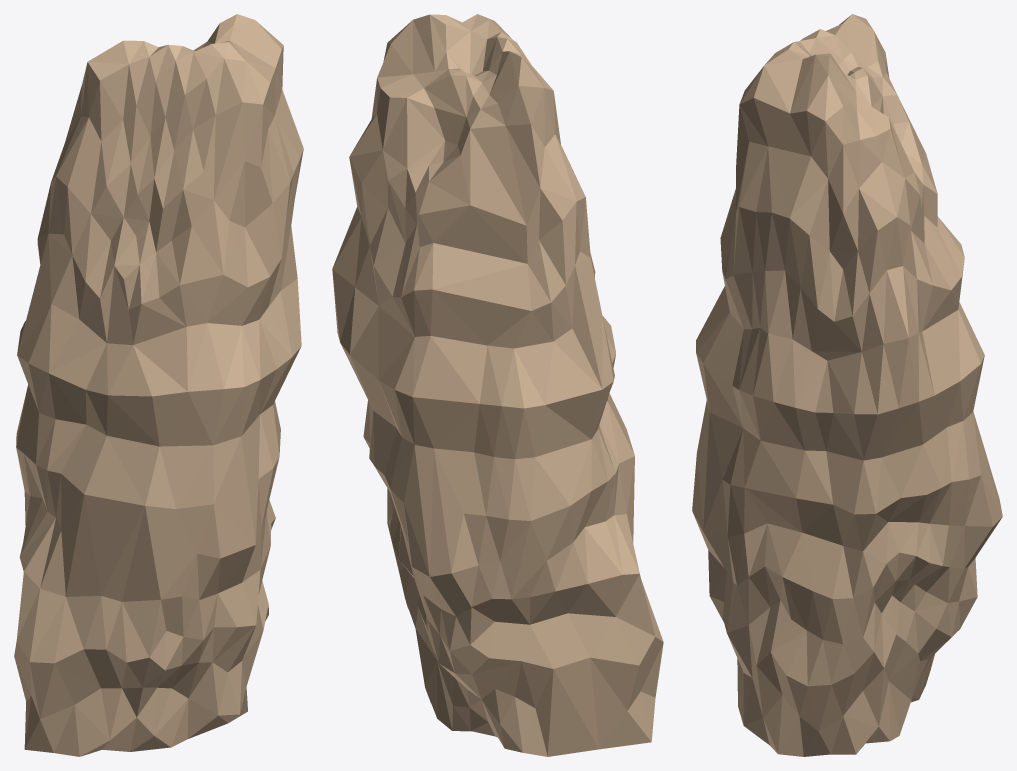
The model's file is SM_DST_Rock_Pillar_A.fbx.
3 views of the same model, side by side, from view 1: azimuth 30°, elevation 25°; view 2: azimuth 150°, elevation 25°; view 3: azimuth 270°, elevation 25° (orthographic). The views are drawn at different scales.
Parts seen in each view (by area): view 1: SM_DST_Rock_Pillar_A; view 2: SM_DST_Rock_Pillar_A; view 3: SM_DST_Rock_Pillar_A.
Part boxes in pixels (x1=…): SM_DST_Rock_Pillar_A: x1=14, y1=14, x2=303, y2=756; SM_DST_Rock_Pillar_A: x1=332, y1=14, x2=663, y2=756; SM_DST_Rock_Pillar_A: x1=692, y1=14, x2=1002, y2=756.
Bounding box in the file's own units: 1.02 × 2.29 × 0.9104.
